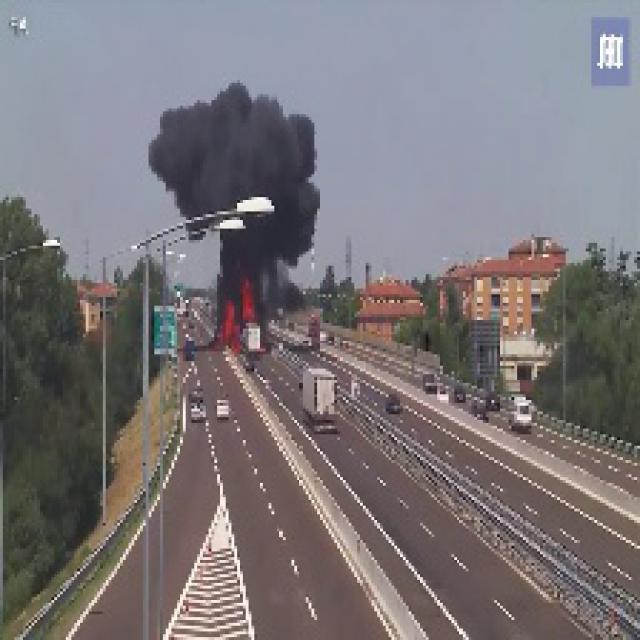fire: (214, 274, 260, 352)
